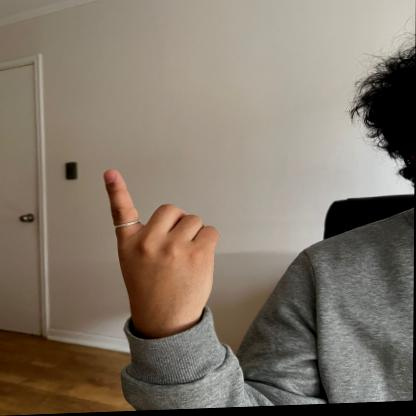T: (97, 156, 221, 328)
